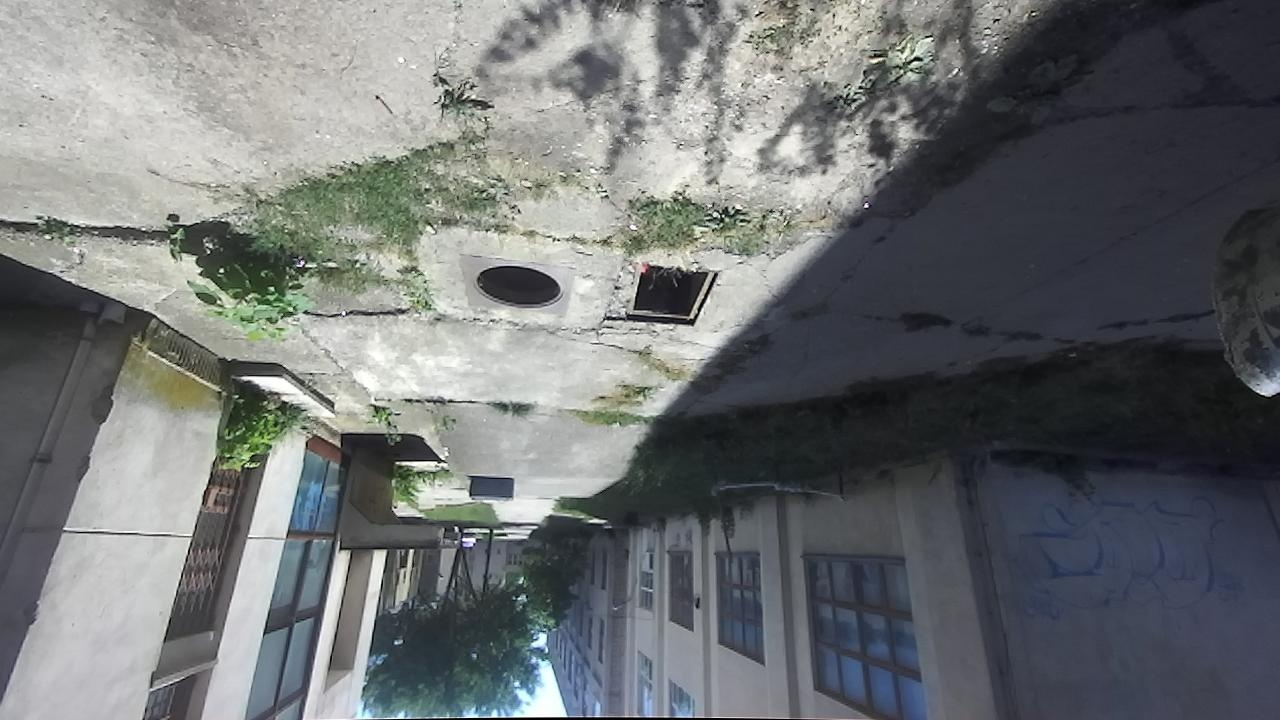drain: (623, 262, 725, 332), (467, 262, 572, 312)
